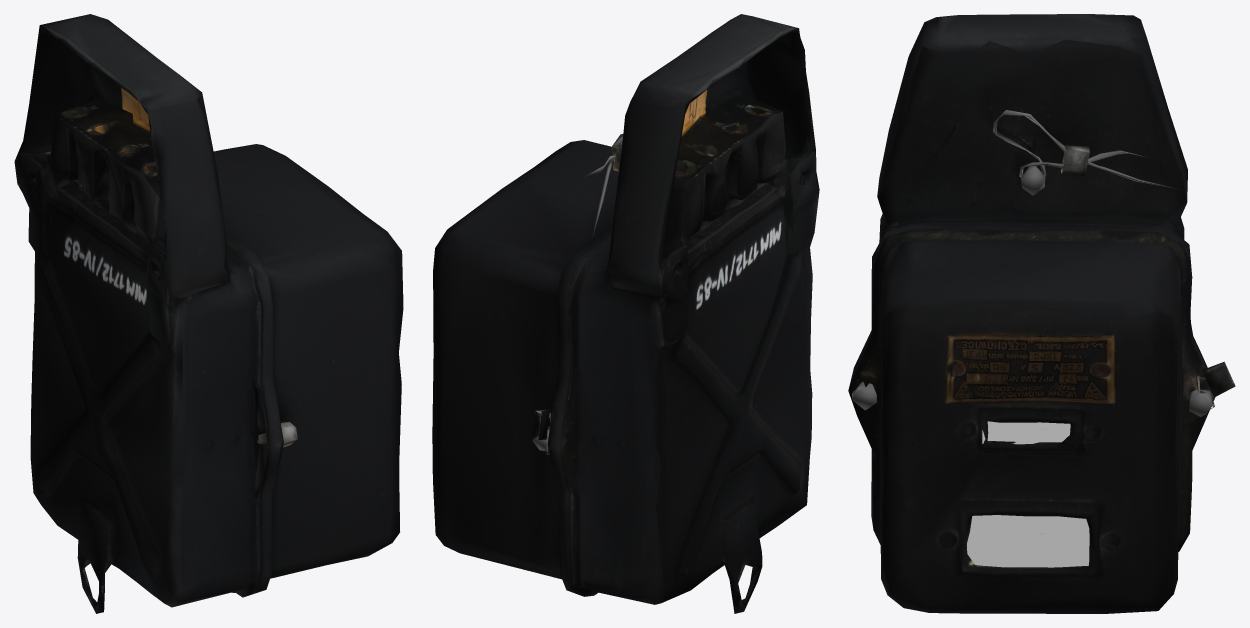
The model's file is ElectricictyBox.fbx.
3 renders of one model, left to right at view 1: azimuth 30°, elevation 25°; view 2: azimuth 150°, elevation 25°; view 3: azimuth 270°, elevation 25°, orthographic. The views are drawn at different scales.
Visible parts, largest first — view 1: EXPORT_Baked; view 2: EXPORT_Baked; view 3: EXPORT_Baked.
Part boxes in pixels (x1,y1,x2,y2): EXPORT_Baked: [14, 14, 403, 613]; EXPORT_Baked: [432, 14, 819, 613]; EXPORT_Baked: [848, 14, 1235, 613].
Size of the model in its own units: 249 by 517 by 333.
